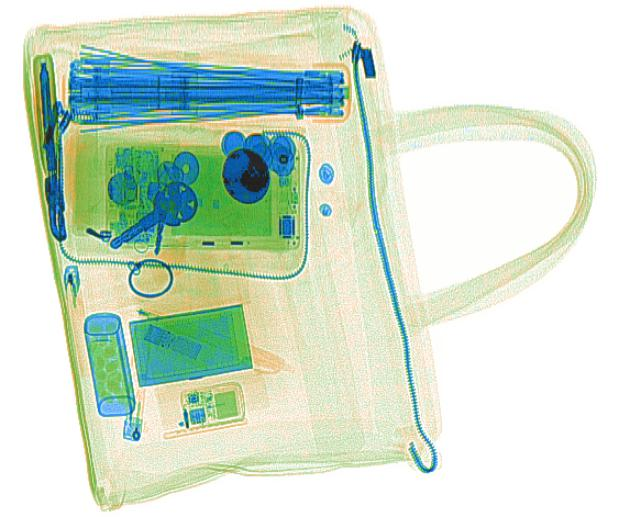USBFlashDisk: (142, 321, 200, 360)
